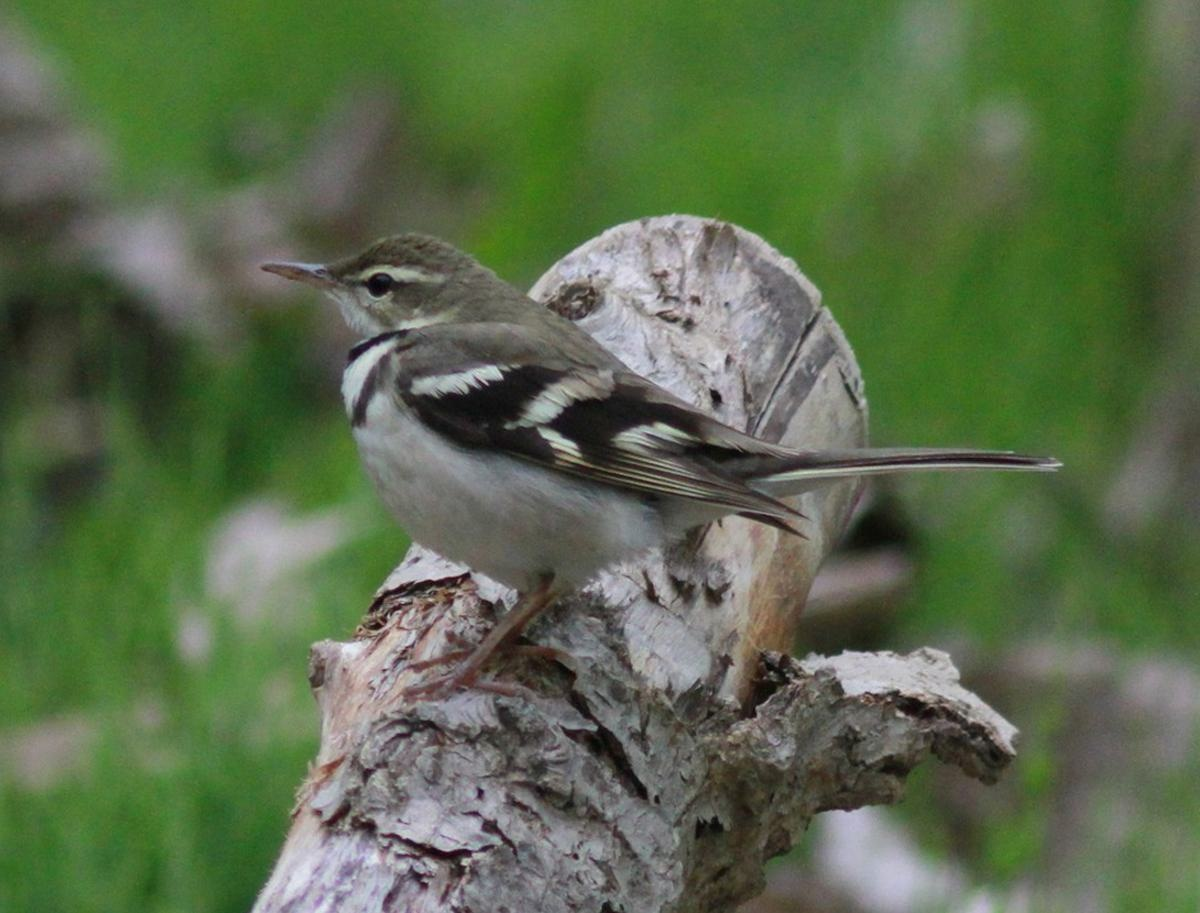wagtail: (170, 161, 888, 686)
